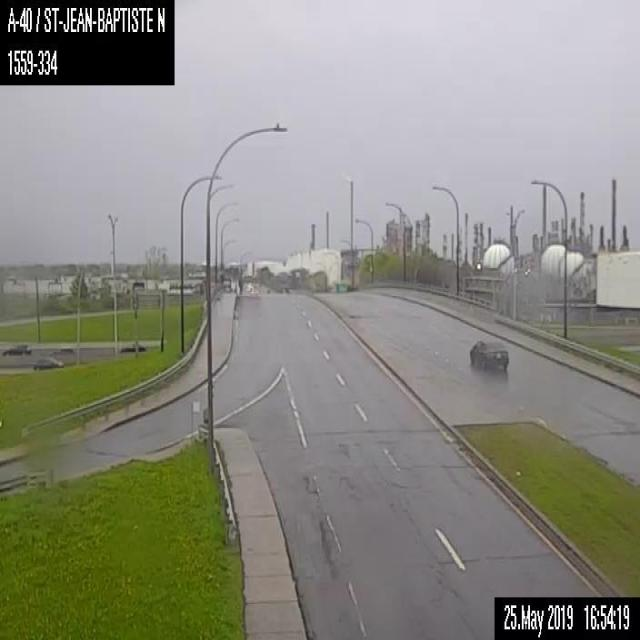vehicle: (469, 337, 508, 369), (31, 355, 63, 369), (1, 343, 31, 356), (118, 338, 145, 351)
